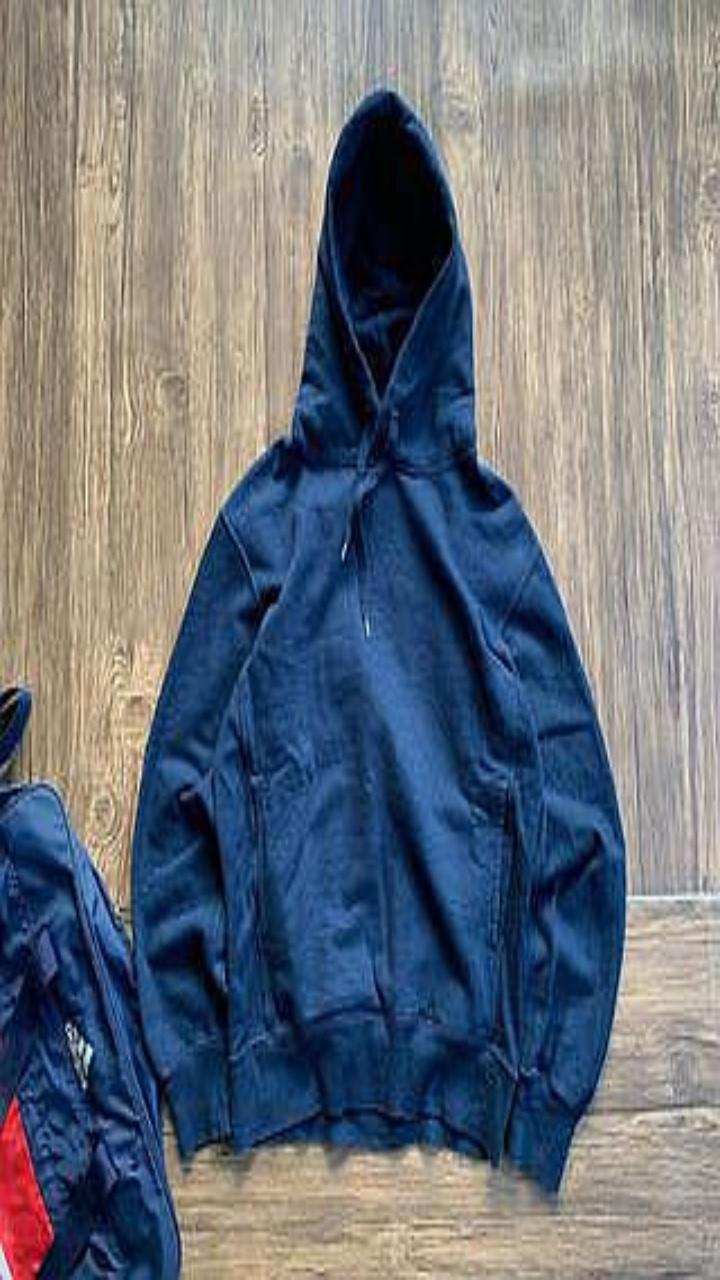Hoodie: (133, 90, 625, 1189)
